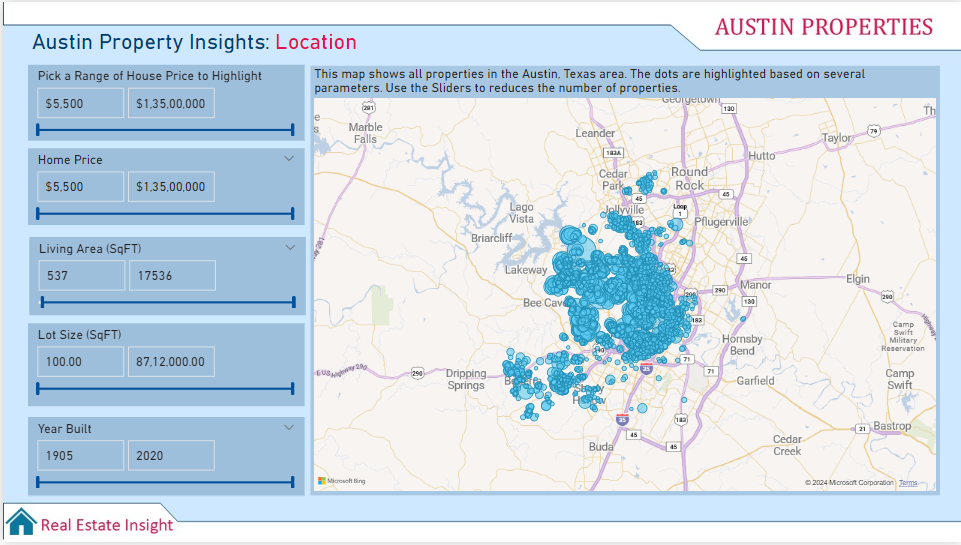

Layout of this report page (visuals, bound fields, positions):
{"tool":"powerbi","page":{"name":"Location","canvas":[1280,720],"ordinal":2},"visuals":[{"type":"group","id":"g1","title":"Location","box":[33.8,30,1216.2,628.8],"z":0},{"type":"map","title":"This map shows all properties in the Austin, Texas area.  The dots are highlighted based on several parameters. Use the Sliders to reduces the number of properties.","fields":{"X":["location.longitude"],"Y":["location.latitude"],"Size":["_measures.Average House Price"]},"box":[410.8,85.7,839.2,572.9],"z":0,"group":"g1"},{"type":"slicer","fields":{"Values":["housing_fact.latestPrice"]},"box":[33.8,195,368.4,102.5],"z":1000,"group":"g1"},{"type":"slicer","fields":{"Values":["Parameter (Range).Parameter (Range)"]},"box":[33.8,83.8,368.4,101.2],"z":2000,"group":"g1"},{"type":"slicer","fields":{"Values":["housing_fact.livingAreaSqFt"]},"box":[35,313.8,368.4,103.8],"z":3000,"group":"g1"},{"type":"slicer","fields":{"Values":["housing_fact.lotSizeSqFt"]},"box":[33.8,428.8,368.4,110],"z":4000,"group":"g1"},{"type":"slicer","fields":{"Values":["housing_fact.yearBuilt"]},"box":[33.8,553.8,368.4,105],"z":5000,"group":"g1"},{"type":"textbox","box":[33.8,30,562,42.5],"z":6000,"group":"g1"}]}

Visuals, with their boxes in screenshot pixels (x1, y1, x2, y2), scaled from the page's 1280x720 canvas onto the 961x545 screenshot:
"Location" group: (left=25, top=23, right=938, bottom=499)
"This map shows all properties in the Austin, Texas area.  The dots are highlighted based on several parameters. Use the Sliders to reduces the number of properties." map: (left=308, top=65, right=938, bottom=499)
slicer - housing_fact.latestPrice: (left=25, top=148, right=302, bottom=225)
slicer - Parameter (Range).Parameter (Range): (left=25, top=63, right=302, bottom=140)
slicer - housing_fact.livingAreaSqFt: (left=26, top=238, right=303, bottom=316)
slicer - housing_fact.lotSizeSqFt: (left=25, top=325, right=302, bottom=408)
slicer - housing_fact.yearBuilt: (left=25, top=419, right=302, bottom=499)
textbox: (left=25, top=23, right=447, bottom=55)
